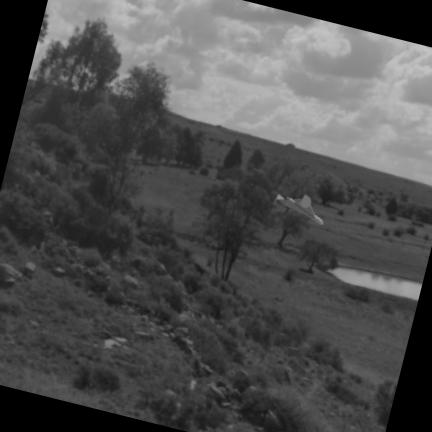Shahed: (274, 195, 322, 224)
